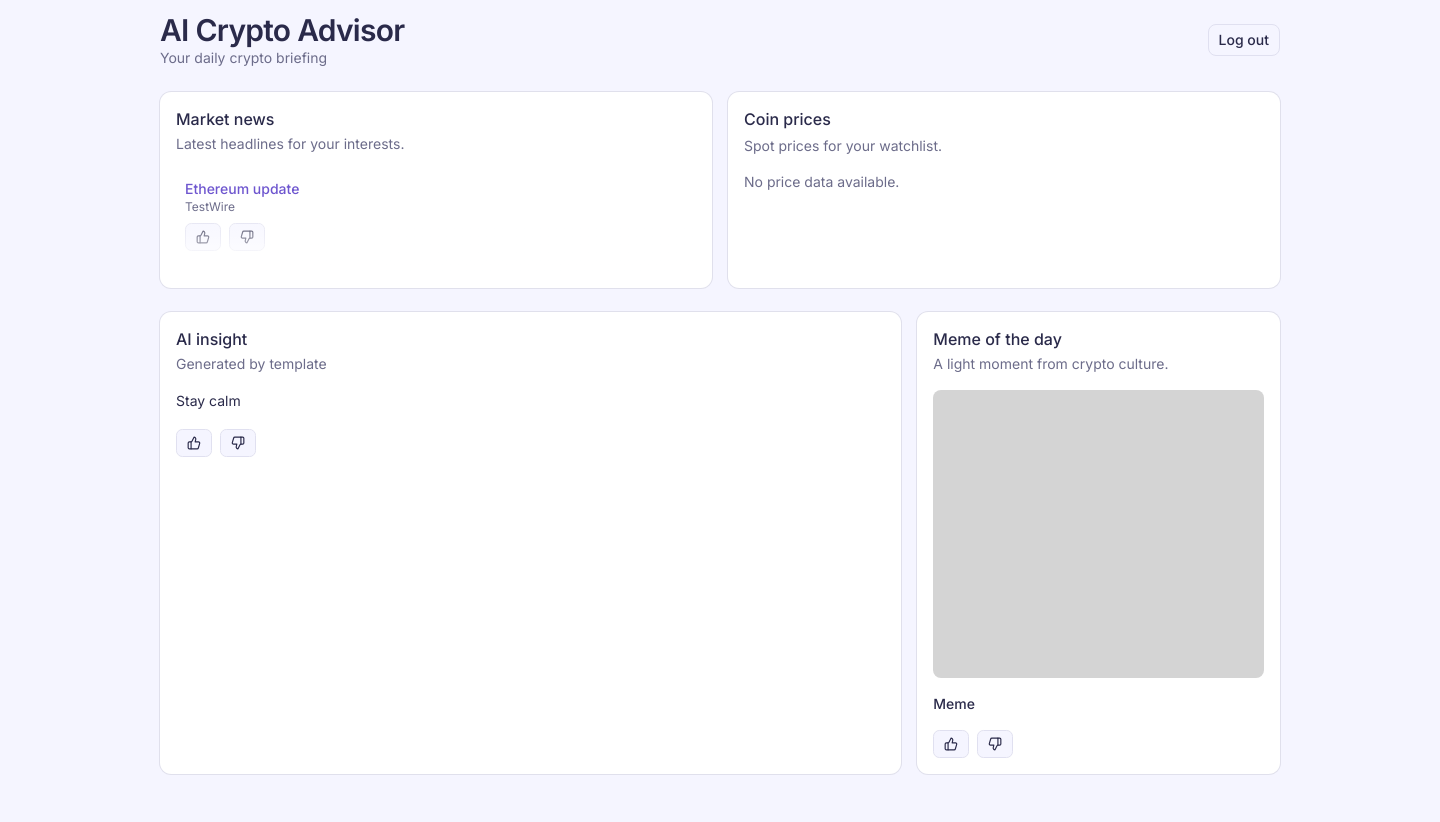
Test case: VoteButtons via dashboard news › shows vote error and keeps panel visible
Expected: the link "Ethereum update" is shown, [185,180,299,197]
Click the button named "Thumbs up" below "TestWire". click: (203, 237)
box: [185,223,221,251]
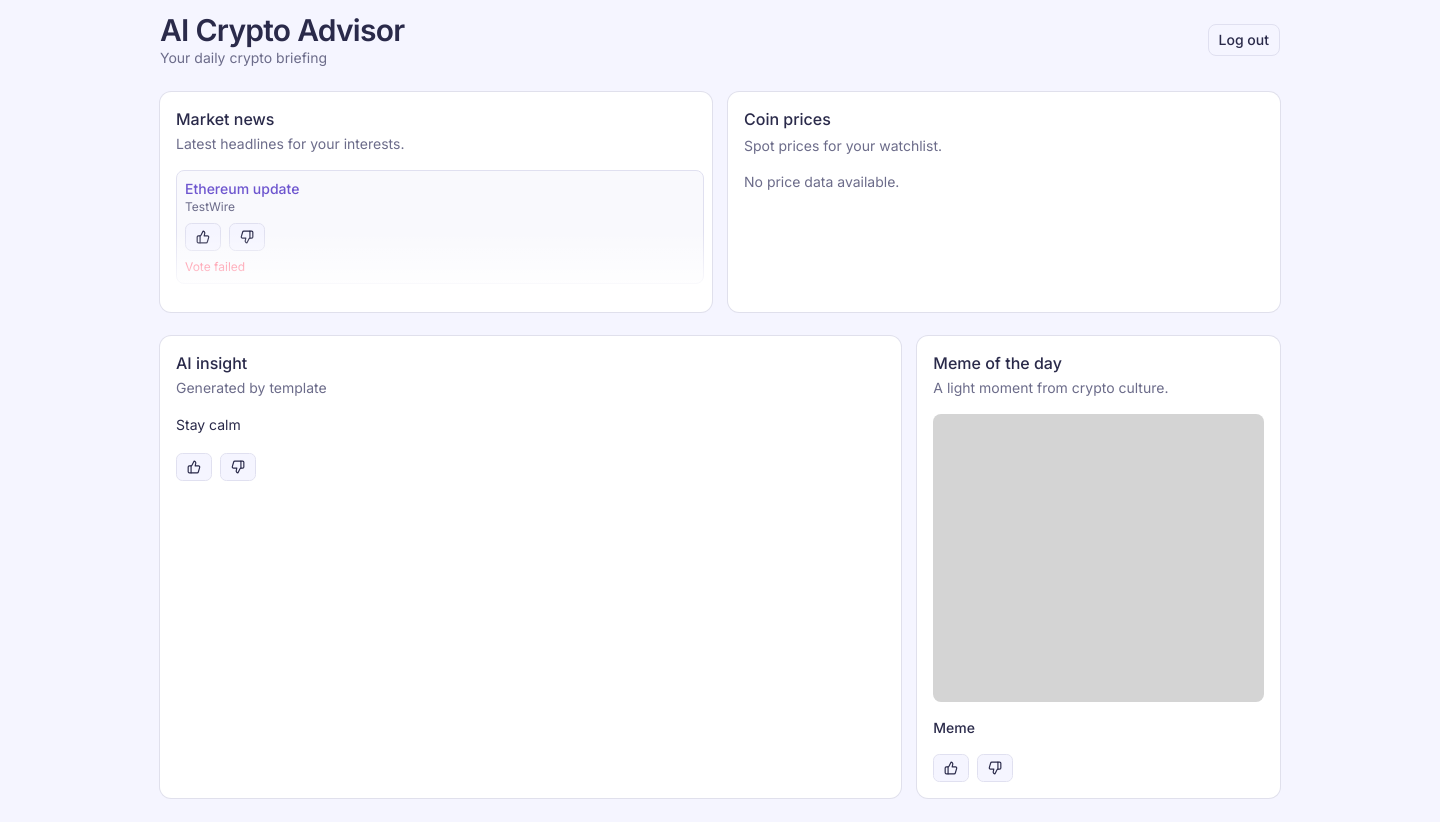
Expected: the link "Ethereum update" is shown, [185,180,299,197]
Expected: the text "Vote failed" is shown, [185,259,245,274]
